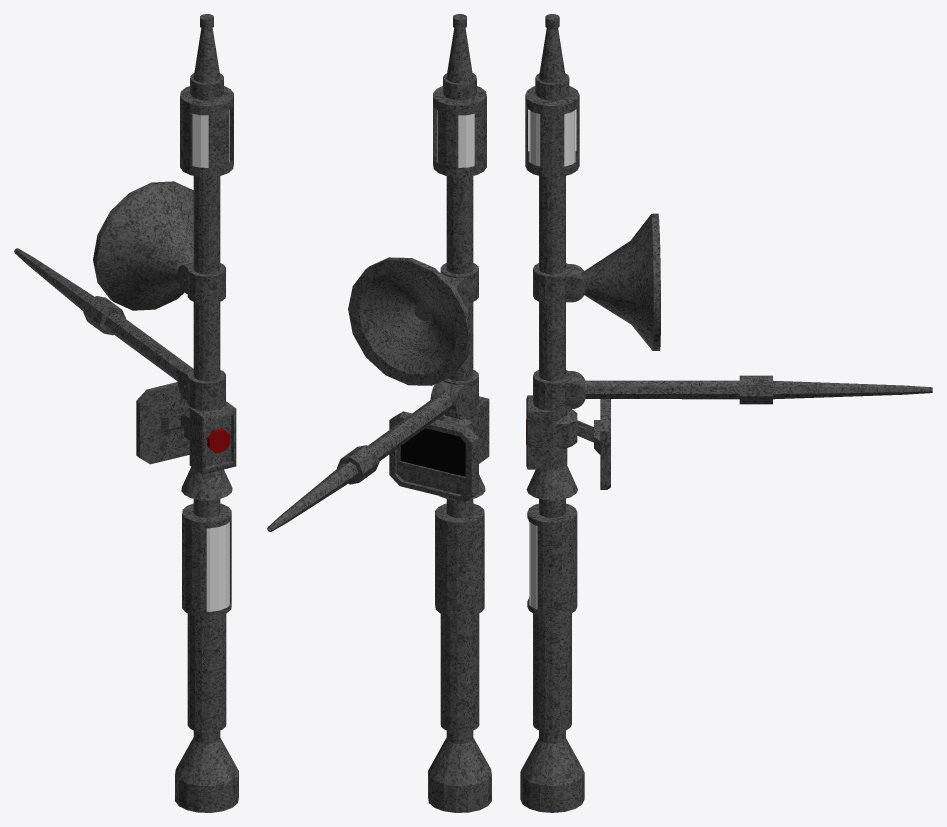
File: Pipe 1.fbx
3 views of the same model, side by side, from view 1: azimuth 30°, elevation 25°; view 2: azimuth 150°, elevation 25°; view 3: azimuth 270°, elevation 25° (orthographic).
Parts seen in each view (by area): view 1: Cylinder.012, Cylinder.014, Cylinder.011, Cube.011, Cube.010, Cube.008, Cube.009; view 2: Cylinder.012, Cylinder.014, Cube.011, Cylinder.011, Cube.010, Cube.008, Cube.009; view 3: Cylinder.012, Cylinder.011, Cylinder.014, Cube.010, Cube.008, Cube.009, Cube.011.
Boxes of the visible parts, x1,y1,x2,y2 form: Cylinder.012: (175, 14, 238, 812); Cylinder.014: (93, 181, 193, 310); Cylinder.011: (14, 248, 193, 380); Cube.011: (136, 382, 189, 464); Cube.010: (180, 401, 236, 474); Cube.008: (177, 369, 225, 410); Cube.009: (177, 262, 225, 303); Cylinder.012: (428, 14, 491, 812); Cylinder.014: (348, 257, 472, 385); Cube.011: (389, 411, 478, 501); Cylinder.011: (267, 392, 452, 531); Cube.010: (437, 396, 489, 463); Cube.008: (430, 370, 478, 413); Cube.009: (440, 263, 478, 304); Cylinder.012: (520, 14, 584, 812); Cylinder.011: (582, 375, 932, 404); Cylinder.014: (581, 213, 660, 350); Cube.010: (526, 395, 593, 469); Cube.008: (533, 369, 585, 410); Cube.009: (533, 263, 585, 303); Cube.011: (594, 399, 610, 489).
Size of the model in its own units: 137 by 863 by 412.
